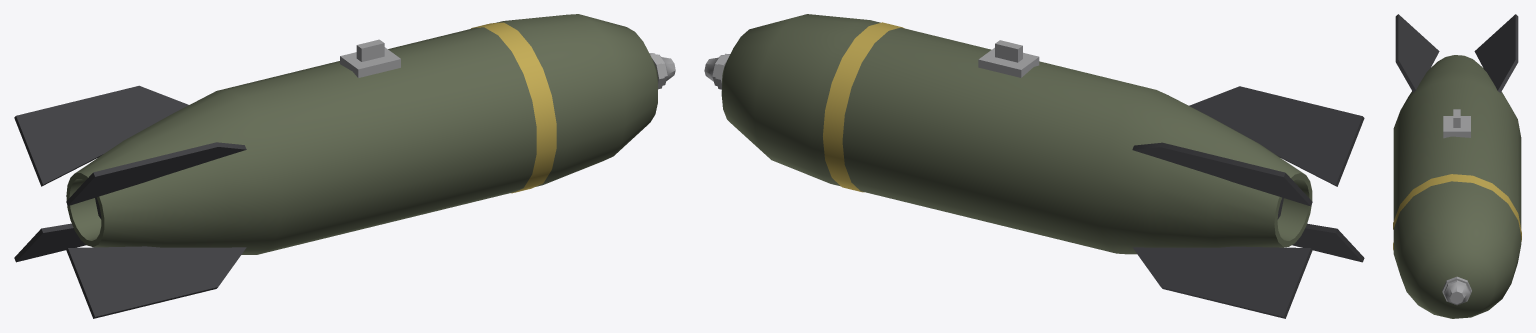
Rendered from bombs_1.glb.
3 views of the same model, side by side, from view 1: azimuth 30°, elevation 25°; view 2: azimuth 150°, elevation 25°; view 3: azimuth 270°, elevation 25° (orthographic). The views are drawn at different scales.
Parts seen in each view (by area): view 1: bombs_1; view 2: bombs_1; view 3: bombs_1.
Boxes of the visible parts, <box> form: bombs_1: <box>14,14,675,318</box>; bombs_1: <box>704,14,1364,318</box>; bombs_1: <box>1393,14,1521,318</box>.
Size of the model in its own units: 0.42 by 0.1129 by 0.1001.
